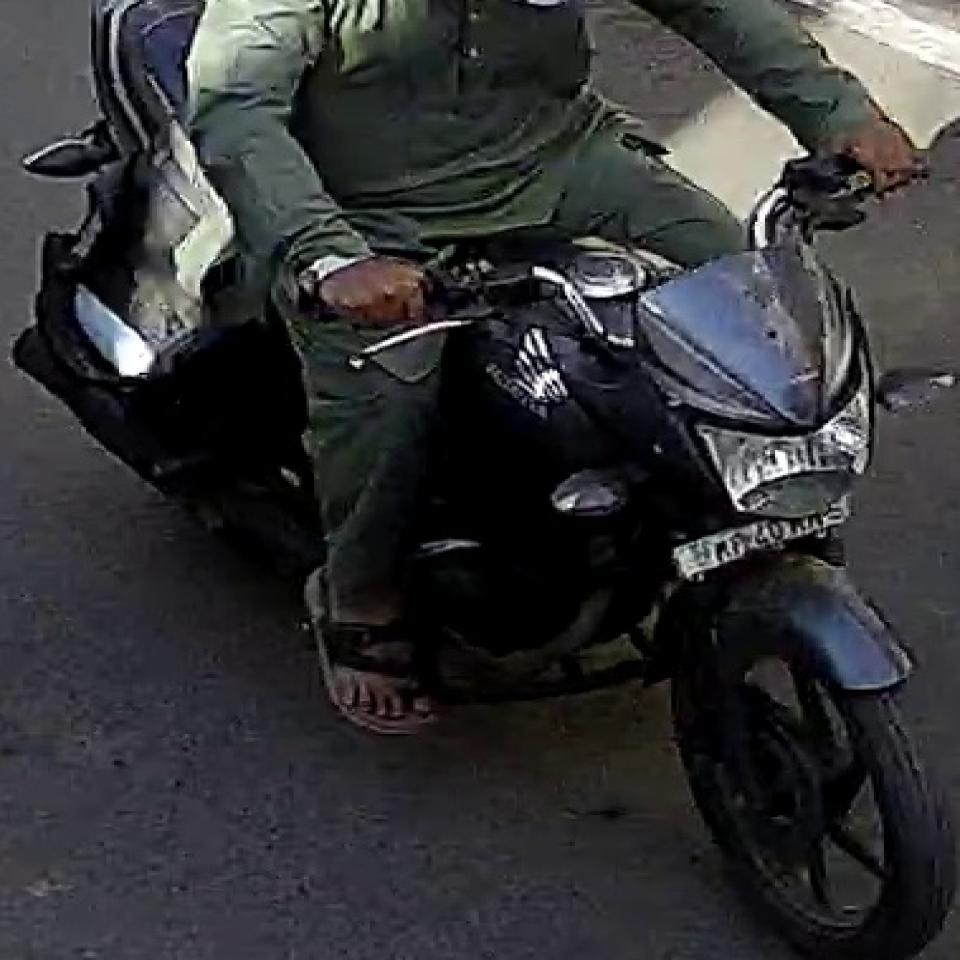head_light: (685, 363, 886, 521)
